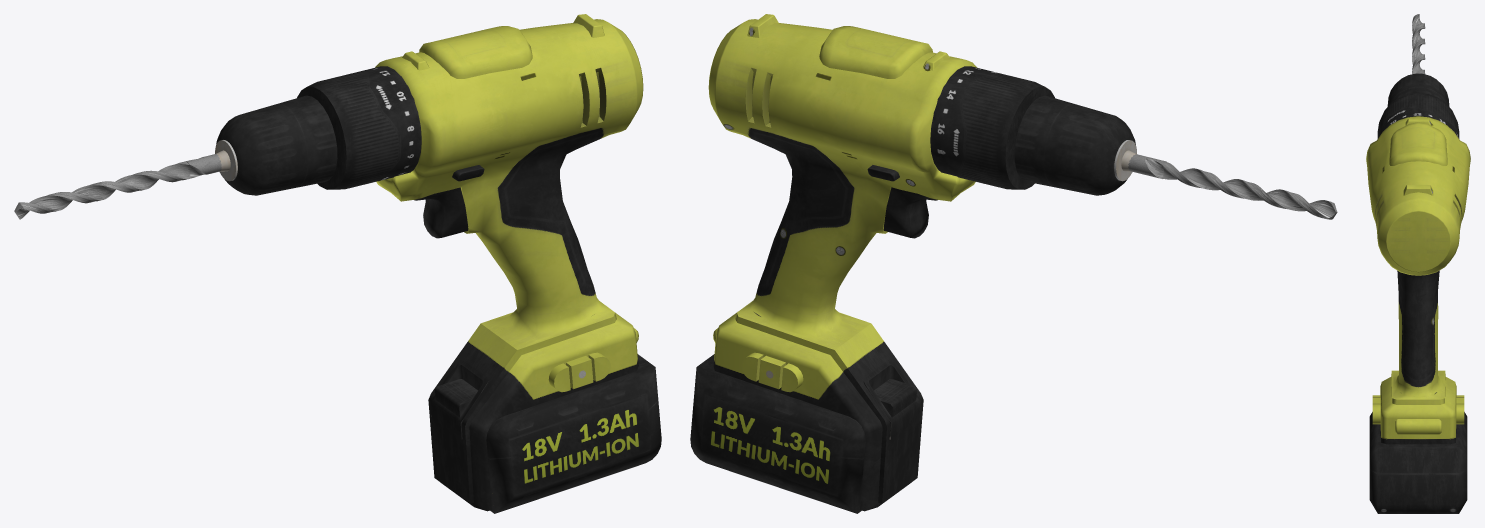
File: Drill_01_4k.fbx
3 views of the same model, side by side, from view 1: azimuth 30°, elevation 25°; view 2: azimuth 150°, elevation 25°; view 3: azimuth 270°, elevation 25° (orthographic). The views are drawn at different scales.
Visible parts, largest first — view 1: Drill_01_4k, Drill_Bit; view 2: Drill_01_4k, Drill_Bit; view 3: Drill_01_4k, Drill_Bit.
Part boxes in pixels (x1=…): Drill_01_4k: x1=215, y1=14, x2=661, y2=513; Drill_Bit: x1=14, y1=154, x2=221, y2=219; Drill_01_4k: x1=690, y1=14, x2=1136, y2=513; Drill_Bit: x1=1128, y1=154, x2=1337, y2=219; Drill_01_4k: x1=1366, y1=73, x2=1470, y2=513; Drill_Bit: x1=1412, y1=14, x2=1425, y2=74.
Bounding box in the file's own units: 78.97 × 55.52 × 15.72.
